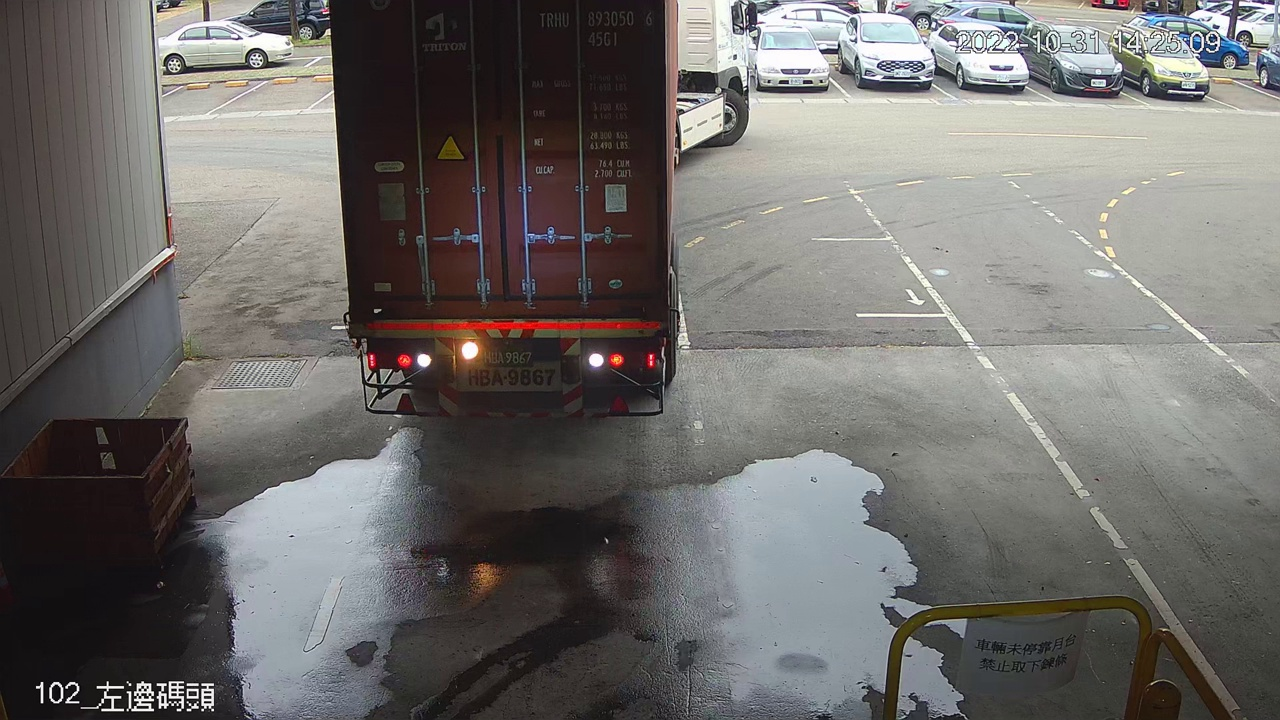container: (533, 3, 660, 52)
